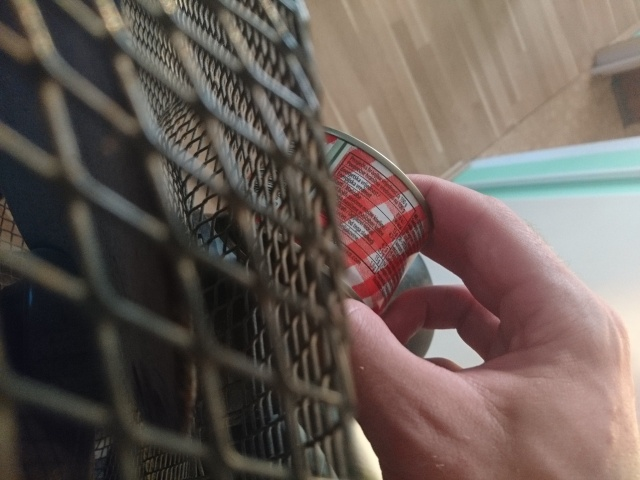Podravka Luncheon Meat 150g: (210, 118, 440, 322)
